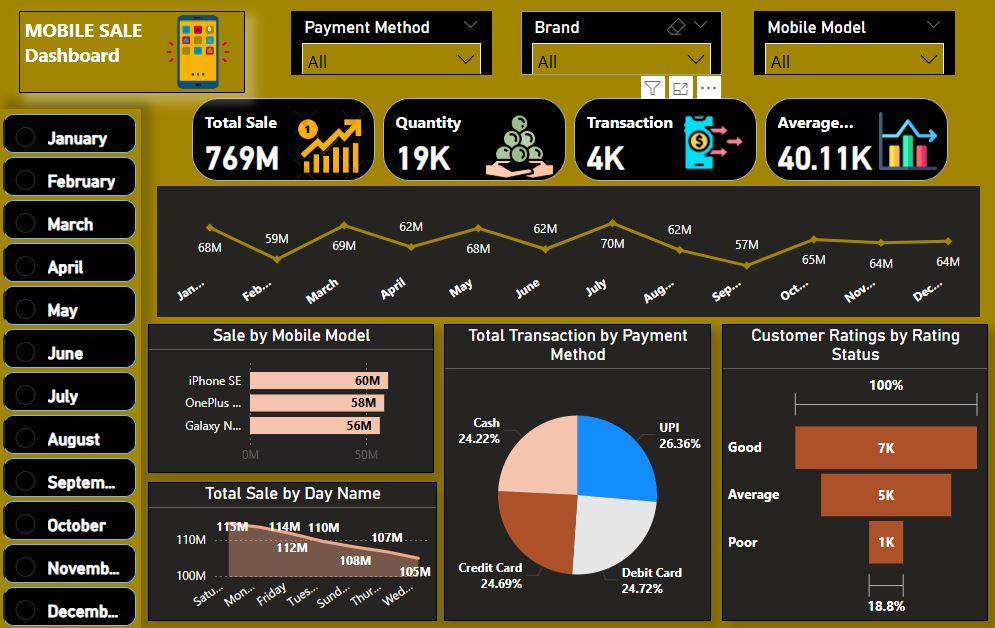

What the dashboard file says about the page in this screenshot:
{"tool":"powerbi","page":{"name":"Page 1","canvas":[1000,650],"ordinal":0},"visuals":[{"type":"advancedSlicerVisual","fields":{"Values":["Date Calender.Date.Variation.Date Hierarchy.Month"]},"box":[0,110,143,526],"z":0},{"type":"cardVisual","fields":{"Data":["Sale Data.Total Sale","Sale Data.Total Quantity","Sale Data.Total Transaction","Sale Data.Average Price"]},"box":[189,94,768,93],"z":1000},{"type":"slicer","fields":{"Values":["Sale Data.Payment Method"]},"box":[293,12,201,64],"z":2000},{"type":"slicer","fields":{"Values":["Sale Data.Brand"]},"box":[523,12,201,64],"z":3000},{"type":"slicer","fields":{"Values":["Sale Data.Mobile Model"]},"box":[756,12,201,64],"z":4000},{"type":"textbox","box":[21,12,226,82],"z":5000},{"type":"lineChart","fields":{"Y":["Sale Data.Total Sale"],"Category":["Date Calender.Date.Variation.Date Hierarchy.Month"]},"box":[159,187,823,131],"z":6000},{"type":"pieChart","fields":{"Category":["Sale Data.Payment Method"],"Y":["Sale Data.Total Transaction"]},"box":[446,325,267,297],"z":7000},{"type":"funnel","title":"Customer Ratings by Rating Status","fields":{"Y":["Sum(Sale Data.Customer Ratings)"],"Category":["Sale Data.Rating Status"]},"box":[724,325,266,297],"z":8000},{"type":"clusteredBarChart","title":"Sale by Mobile Model","fields":{"Category":["Sale Data.Mobile Model"],"Y":["Sale Data.Total Sale"]},"box":[150,325,286,149],"z":9000},{"type":"areaChart","fields":{"Y":["Sale Data.Total Sale"],"Category":["Date Calender.Day Name"]},"box":[150,483,289,139],"z":10000},{"type":"image","box":[146,6,109,94],"z":11000}]}

Visuals, with their boxes in screenshot pixels (x1, y1, x2, y2), scaled from the page's 1000x650 canvas onto the 995x628 screenshot:
advancedSlicerVisual - Date Calender.Date.Variation.Date Hierarchy.Month: 0, 106, 142, 614
cardVisual - Sale Data.Total Sale x Sale Data.Total Quantity: 188, 91, 952, 181
slicer - Sale Data.Payment Method: 292, 12, 492, 73
slicer - Sale Data.Brand: 520, 12, 720, 73
slicer - Sale Data.Mobile Model: 752, 12, 952, 73
textbox: 21, 12, 246, 91
lineChart - Sale Data.Total Sale x Date Calender.Date.Variation.Date Hierarchy.Month: 158, 181, 977, 307
pieChart - Sale Data.Payment Method x Sale Data.Total Transaction: 444, 314, 709, 601
"Customer Ratings by Rating Status" funnel: 720, 314, 985, 601
"Sale by Mobile Model" clusteredBarChart: 149, 314, 434, 458
areaChart - Sale Data.Total Sale x Date Calender.Day Name: 149, 467, 437, 601
image: 145, 6, 254, 97
